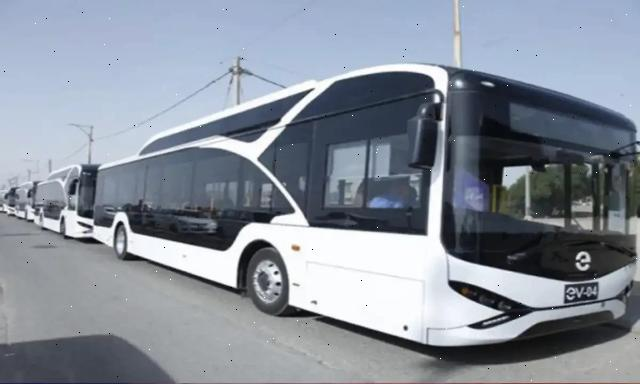Bus: (90, 69, 639, 350), (32, 159, 96, 246)
